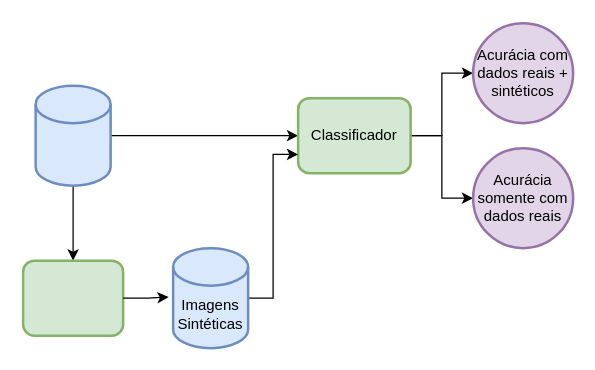
Some shapes in this 595 by 370 pixel diagram are drawn without their labels. Here are the shapes that lost their labels. From the top down, the centre of each, then its label:
pixel 72 135: Imagens Reais
pixel 72 297: GANs
